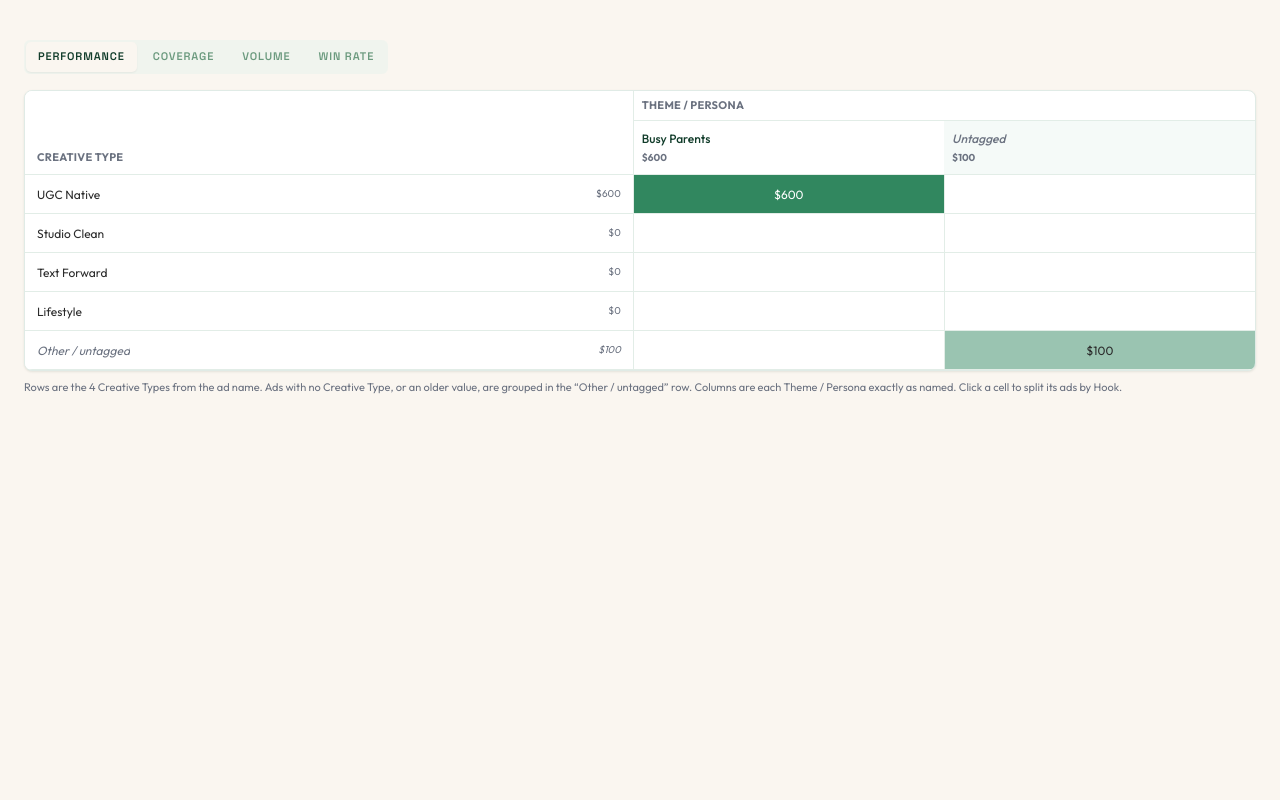
it: US-008: drill a Creative Type × Theme cell into its hook split and open the atomic ad (e2e 1) › opens the explicit untagged hook row and surfaces its ad
The width and height of the screenshot is (1280, 800).
Expected: the text "Busy Parents" is shown, [642,131,710,146]
Click the button named "UGC Native × Busy Parents:".
click(789, 194)  # box [634,175,944,213]
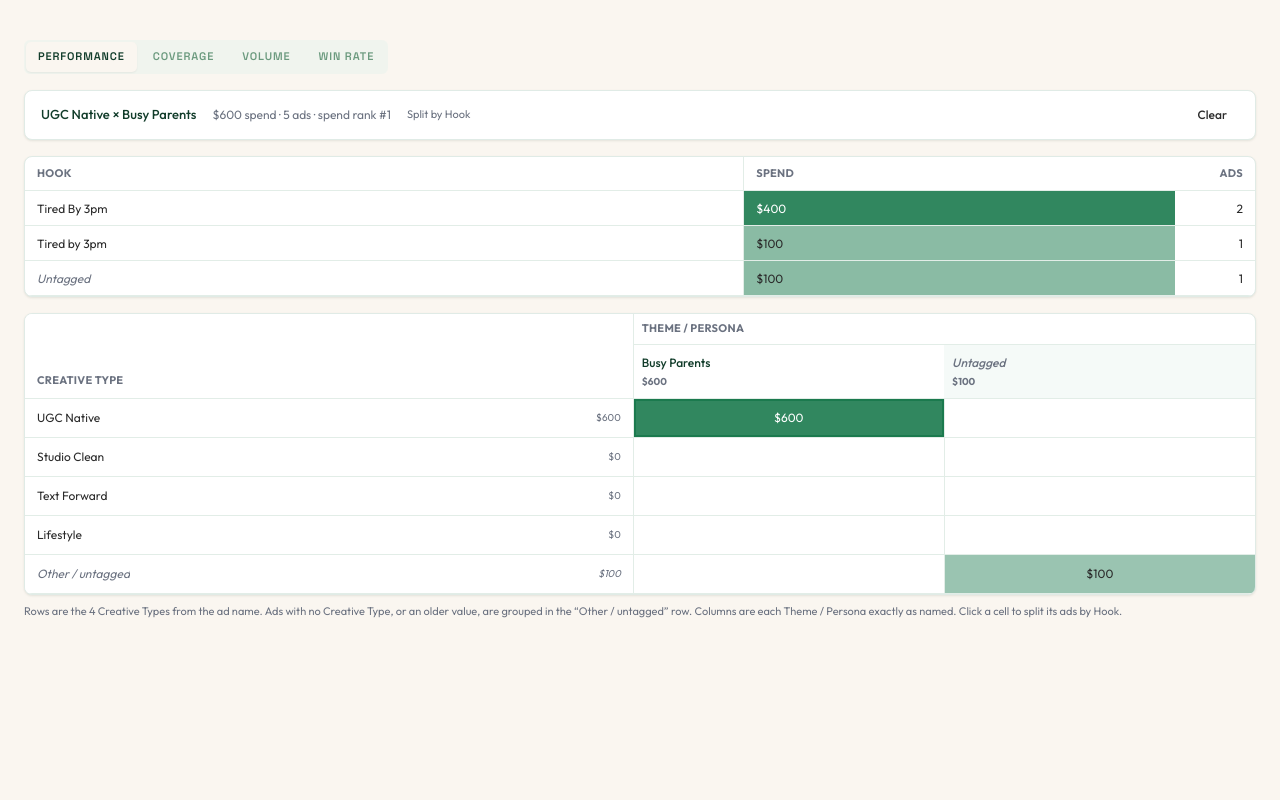
Expected: the element with test id "cell-drilldown" is shown, [24,156,1256,297]
Click the button named "Hook Untagged:".
click(770, 278)  # box [744,261,1175,295]
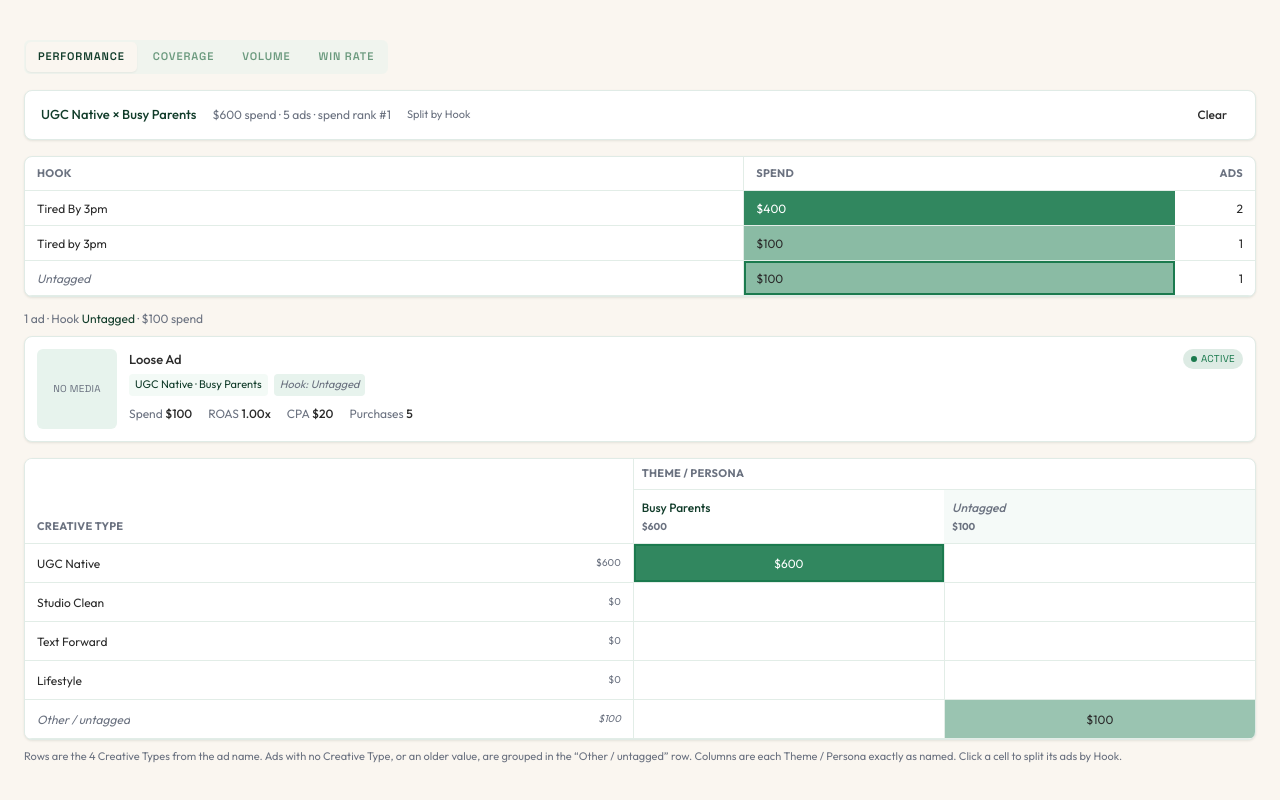
Expected: the element with test id "atomic-ad-panel" is shown, [24,309,1256,442]
Expected: the text "Loose Ad" is shown, [129,349,182,370]
Expected: the number of elements with test id "atomic-ad-card" is 1, [24,336,1256,442]
